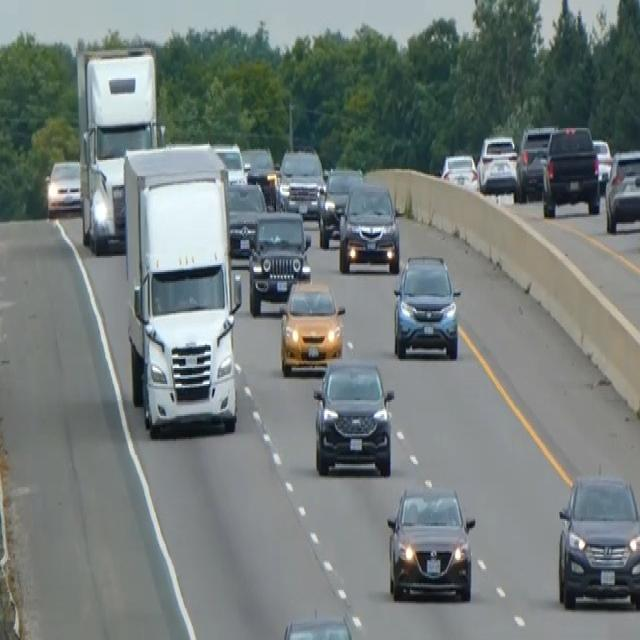car: (556, 471, 639, 610), (385, 483, 475, 602), (312, 358, 394, 477), (392, 253, 461, 359), (247, 208, 311, 315), (278, 274, 345, 375), (338, 180, 400, 274), (541, 123, 600, 217), (317, 165, 363, 247), (276, 146, 325, 218), (225, 178, 267, 258), (515, 124, 556, 201), (604, 147, 639, 233), (477, 133, 518, 194), (240, 144, 278, 208), (279, 610, 356, 638), (46, 158, 81, 217), (212, 140, 246, 187), (440, 151, 478, 192), (591, 137, 612, 192)
lorry: (122, 142, 241, 438), (75, 41, 163, 254)
